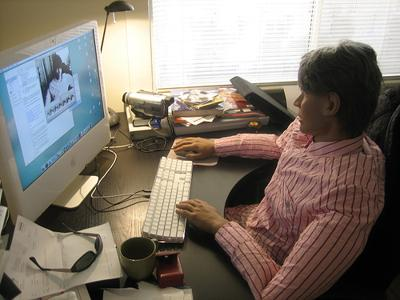person: (174, 38, 389, 300)
